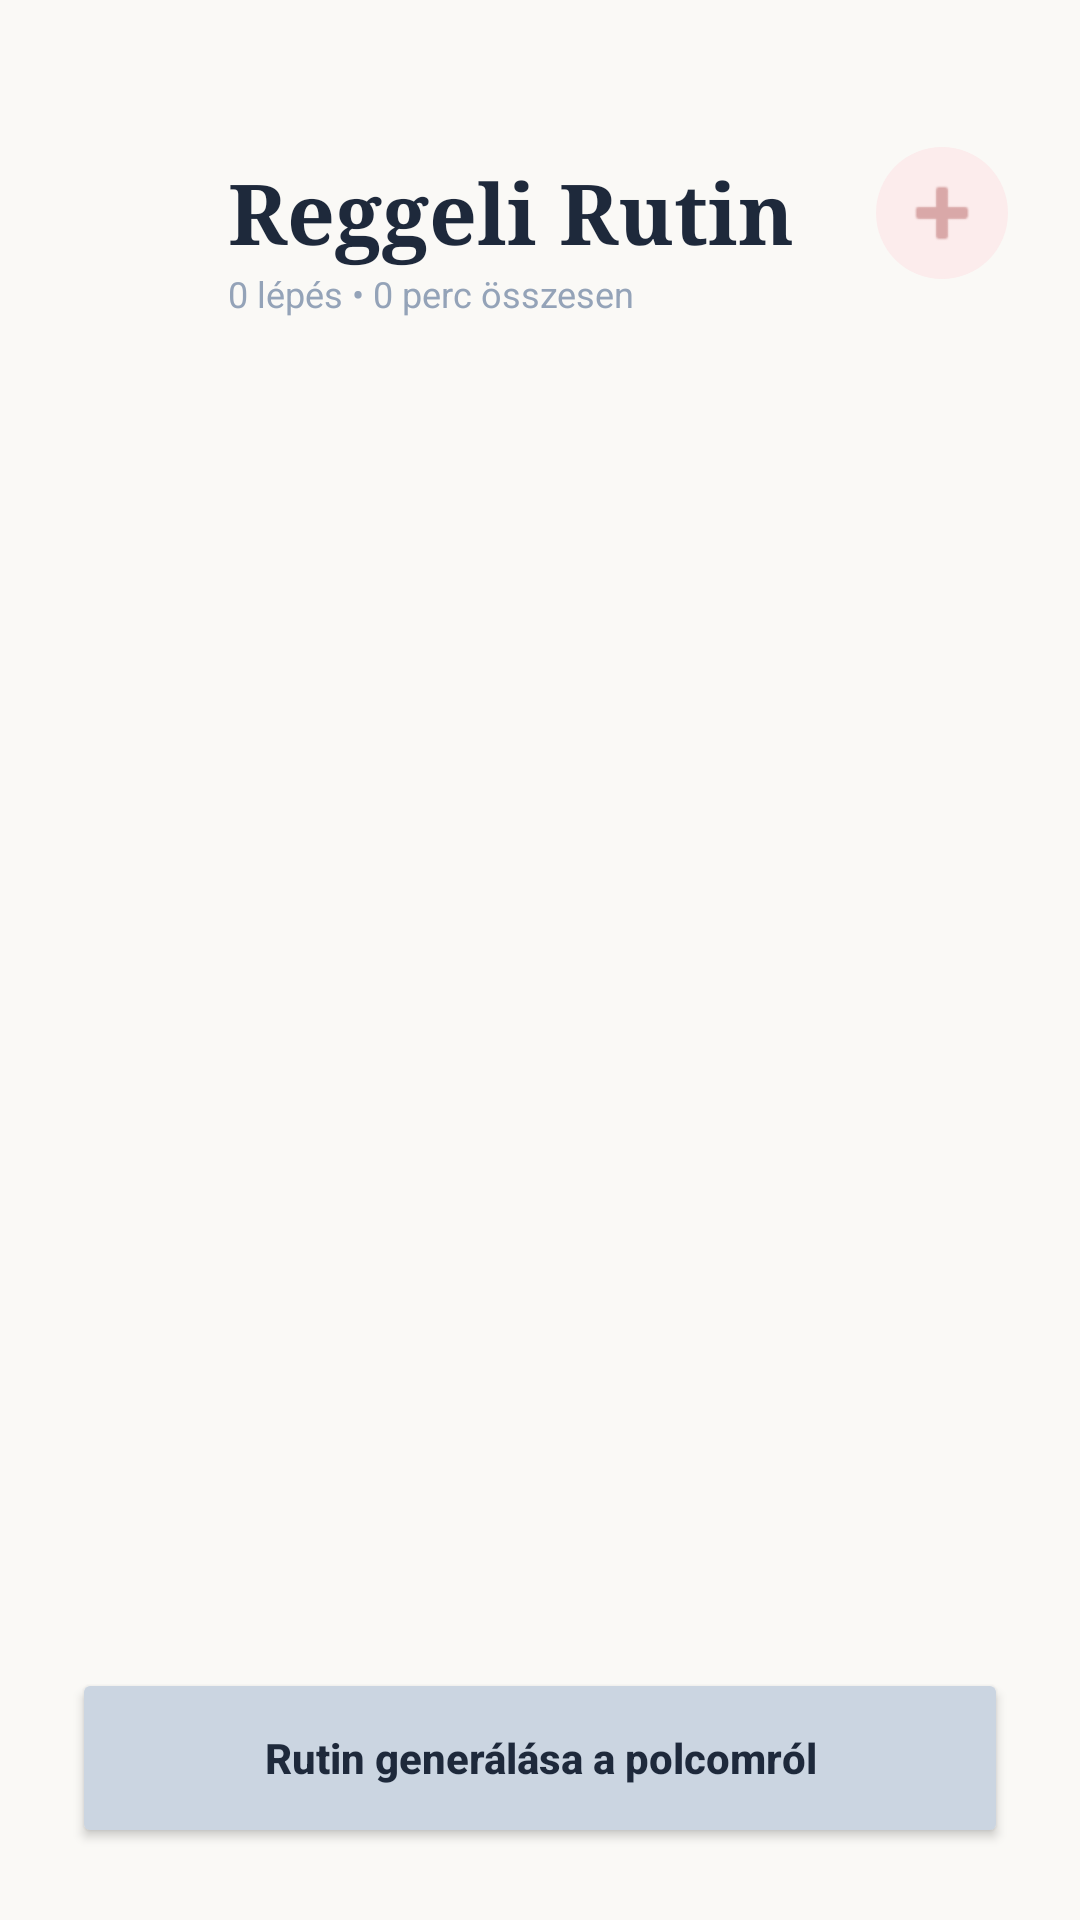

Icons on this 1080×1920 Android screen, each with its box as (x1, y1, x2, y2):
Hozzáadás: (876, 147, 1008, 279)
